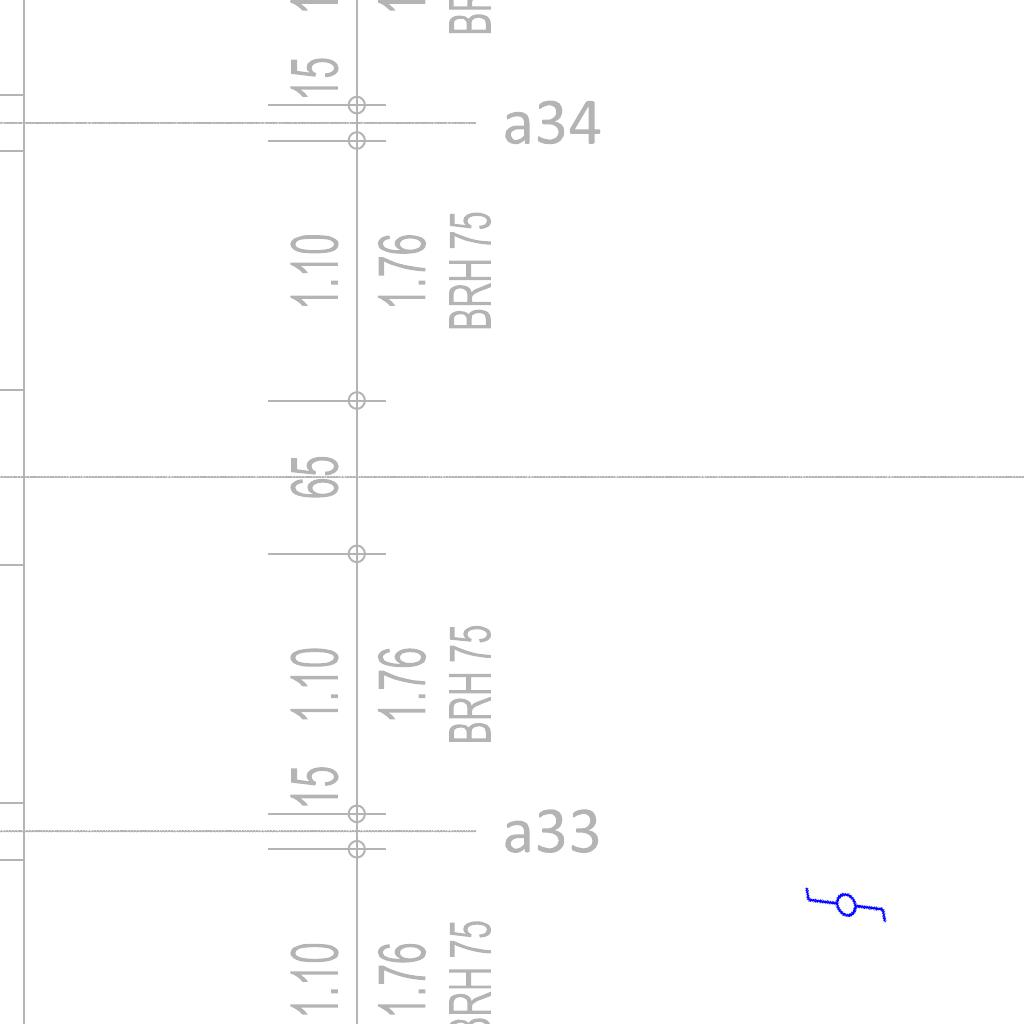Wechselschalter: (797, 858, 897, 960)
